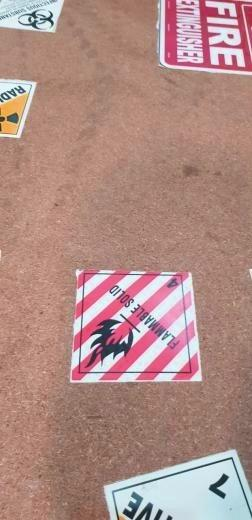flammable-solid: (70, 272, 198, 383)
infectious-substance: (1, 1, 62, 33)
radioactive: (105, 449, 252, 520), (1, 80, 38, 139)
